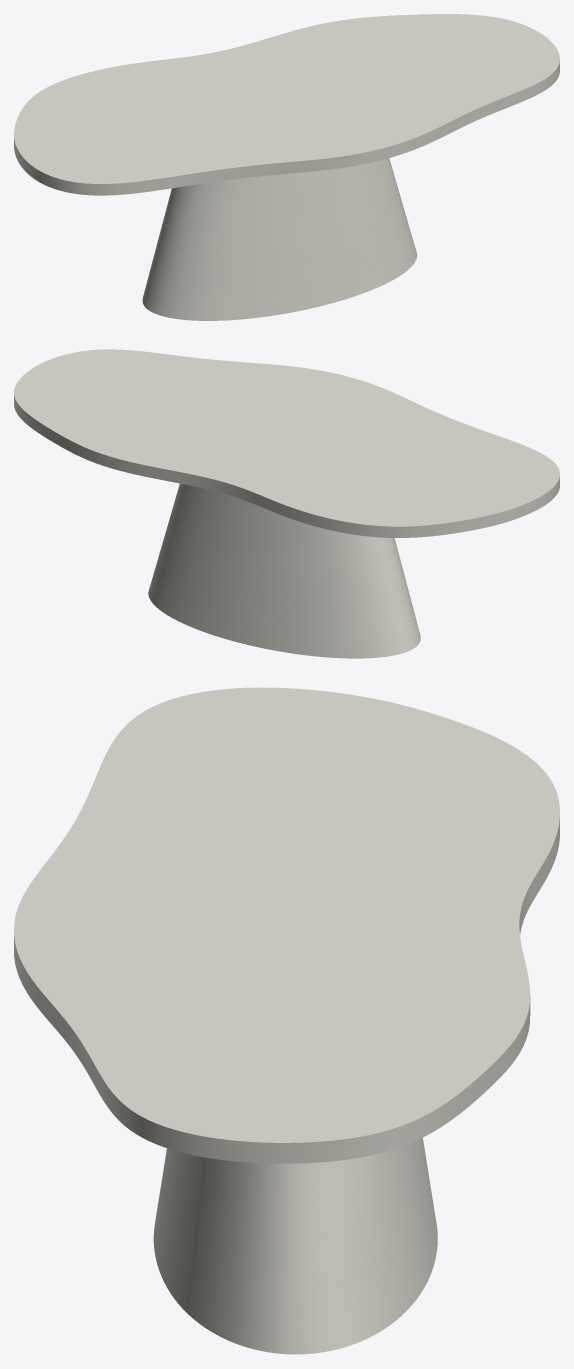
Rendered from pale_toplast_standard_eqone.glb.
3 renders of one model, top to bottom at view 1: azimuth 30°, elevation 25°; view 2: azimuth 150°, elevation 25°; view 3: azimuth 270°, elevation 25°, orthographic. The views are drawn at different scales.
Visible parts, largest first — view 1: standard_toplast, eqone; view 2: standard_toplast, eqone; view 3: standard_toplast, eqone.
Part boxes in pixels (<box>): standard_toplast: <box>14,14,559,195</box>; eqone: <box>142,158,417,320</box>; standard_toplast: <box>14,349,559,537</box>; eqone: <box>148,483,420,658</box>; standard_toplast: <box>14,687,559,1163</box>; eqone: <box>153,1137,437,1354</box>.
Size of the model in its own units: 7.5 by 2.5 by 3.8.
Materials: 1 (1 with a texture image).
